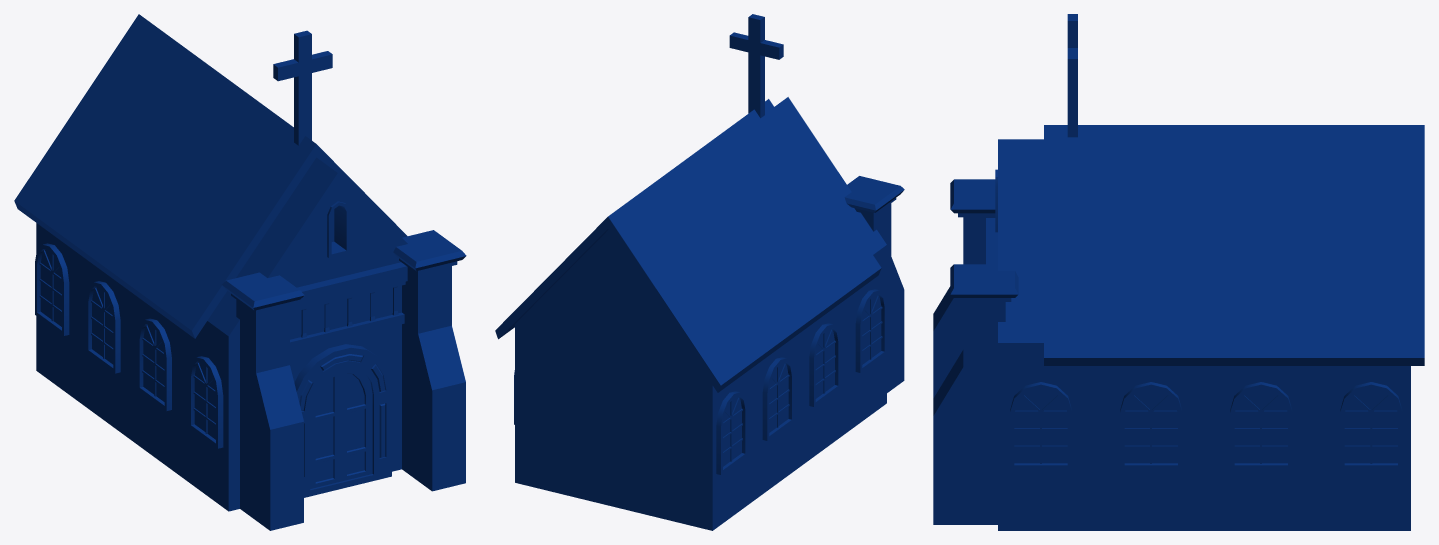
File: Church.fbx
The picture shows the model from 3 angles, left to right: view 1: azimuth 30°, elevation 25°; view 2: azimuth 150°, elevation 25°; view 3: azimuth 270°, elevation 25°; orthographic projection. The views are drawn at different scales.
Visible parts, largest first — view 1: Church; view 2: Church; view 3: Church.
Boxes of the visible parts, box(x1,y1,x2,y2) form: Church: box(14, 14, 466, 530); Church: box(495, 14, 904, 530); Church: box(933, 14, 1424, 530).
Bounding box in the file's own units: 37.04 × 60.4 × 58.97.
